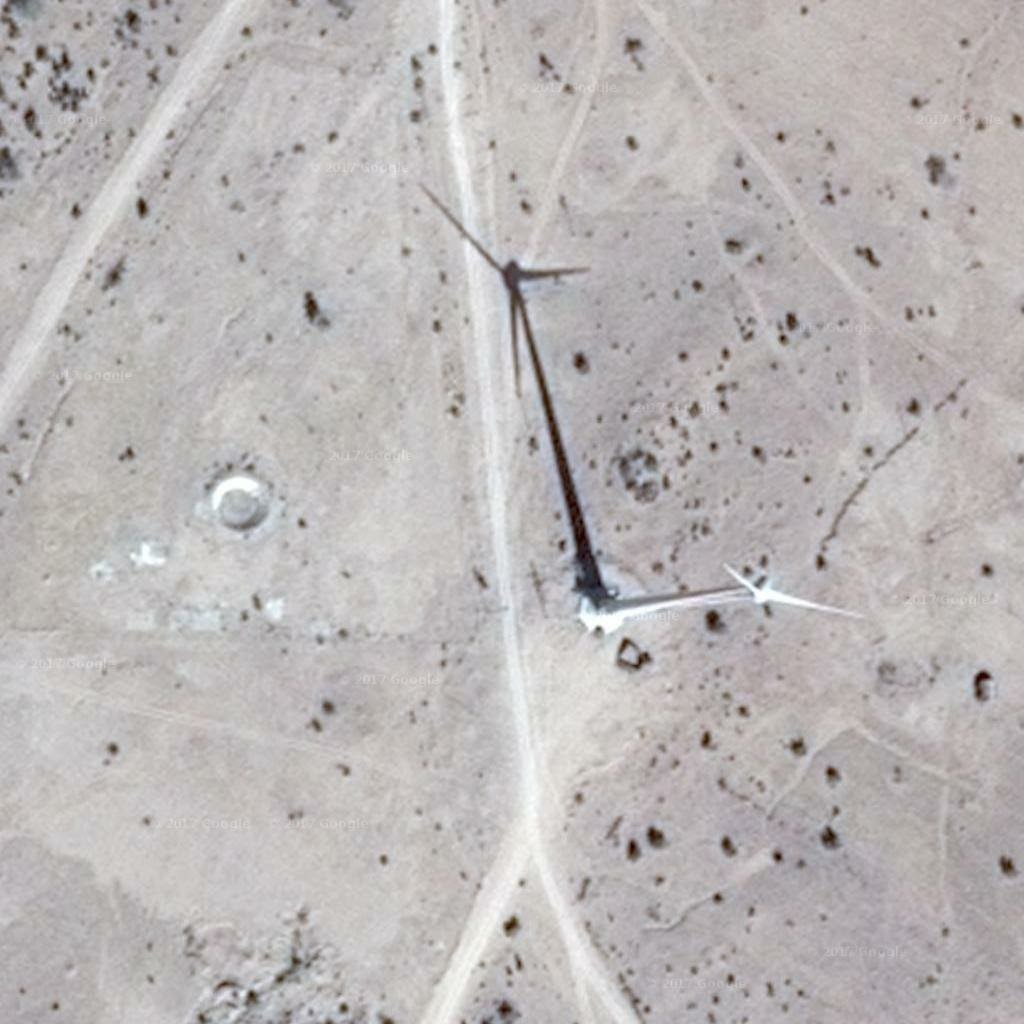Windmill: (421, 177, 628, 590)
